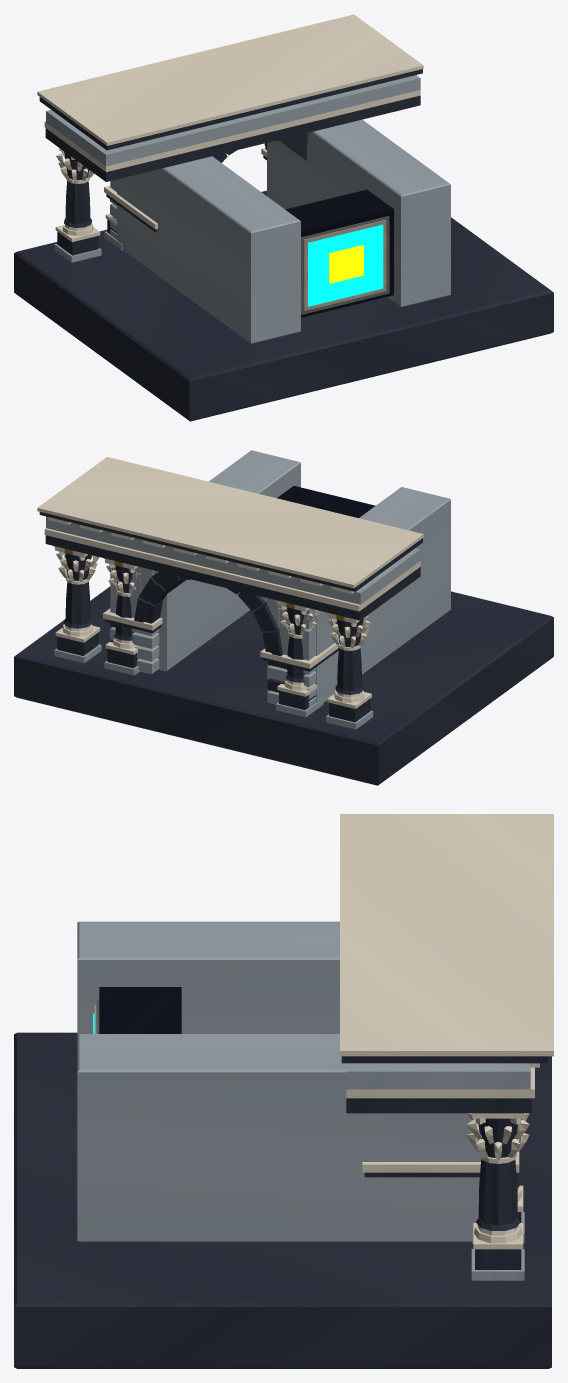
File: UMOD_05_North_Imperial_Reactor_Crest.glb
The picture shows the model from 3 angles, top to bottom: view 1: azimuth 30°, elevation 25°; view 2: azimuth 150°, elevation 25°; view 3: azimuth 270°, elevation 25°; orthographic projection. The views are drawn at different scales.
Parts seen in each view (by area): view 1: UMOD_05_North_Imperial_Reactor_Crest; view 2: UMOD_05_North_Imperial_Reactor_Crest; view 3: UMOD_05_North_Imperial_Reactor_Crest.
Part boxes in pixels (box(x1,y1,x2,y2)): UMOD_05_North_Imperial_Reactor_Crest: box(14, 14, 553, 421); UMOD_05_North_Imperial_Reactor_Crest: box(14, 450, 553, 785); UMOD_05_North_Imperial_Reactor_Crest: box(14, 814, 553, 1368).
Bounding box in the file's own units: 20.4 × 10.5 × 17.06.
Materials: 9 (9 with a texture image).
